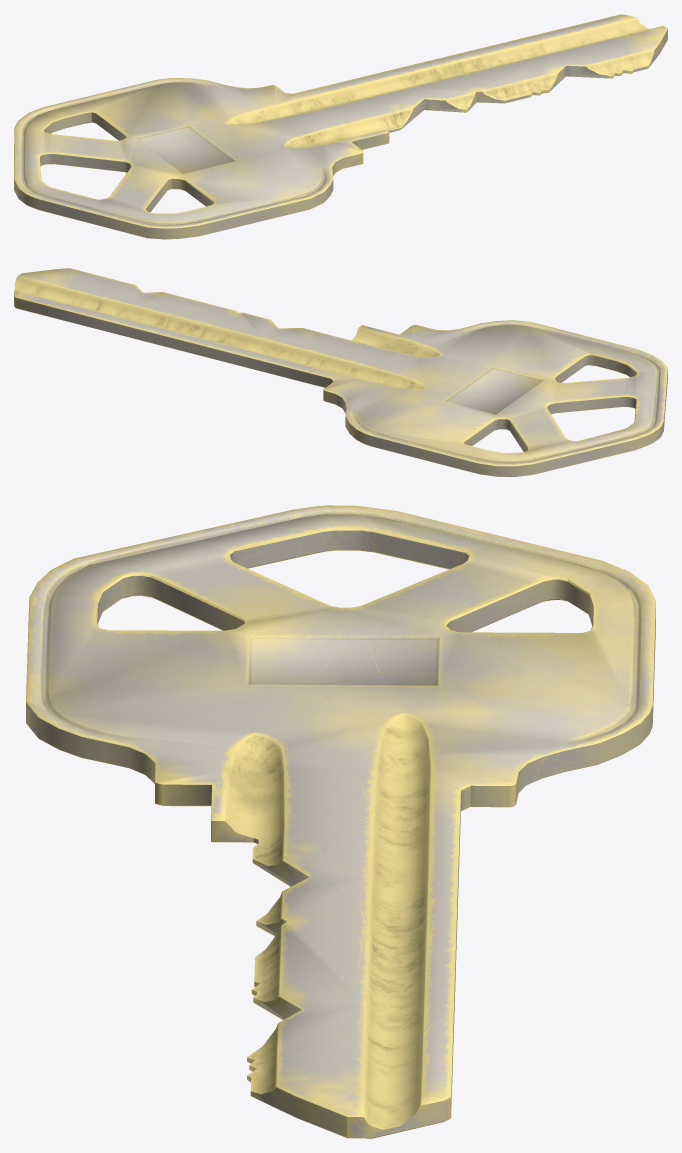
Rendered from BRASS KEY.fbx.
3 views of the same model, one above another, from view 1: azimuth 30°, elevation 25°; view 2: azimuth 150°, elevation 25°; view 3: azimuth 270°, elevation 25° (orthographic). The views are drawn at different scales.
Visible parts, largest first — view 1: Key_002_Lo_Key_002_0; view 2: Key_002_Lo_Key_002_0; view 3: Key_002_Lo_Key_002_0.
Boxes of the visible parts, x1,y1,x2,y2 form: Key_002_Lo_Key_002_0: (14, 14, 667, 239); Key_002_Lo_Key_002_0: (14, 268, 667, 476); Key_002_Lo_Key_002_0: (26, 505, 655, 1138).
Bounding box in the file's own units: 6004 × 133 × 2585.
1 material, 1 textured.
